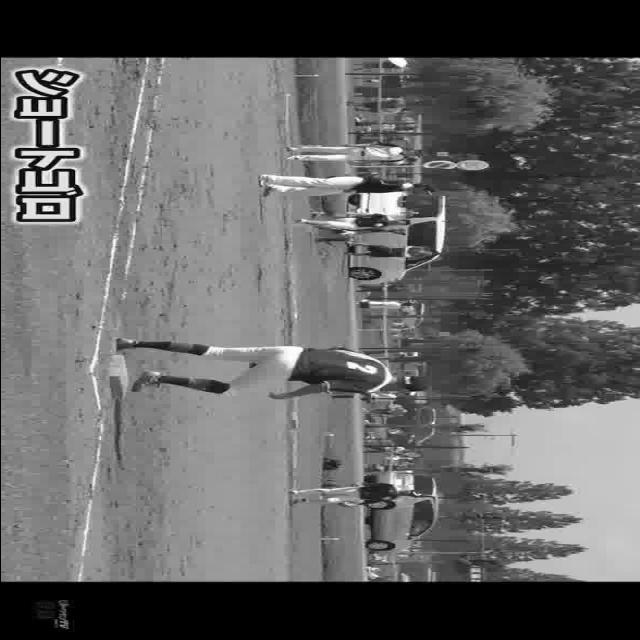base: (110, 354, 130, 402)
shoe: (127, 368, 163, 392), (114, 339, 138, 353), (263, 182, 277, 198), (259, 175, 271, 187)
